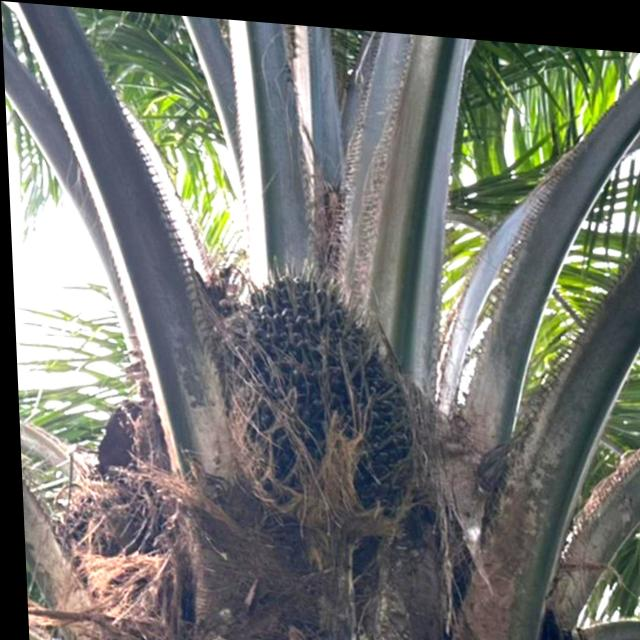almost: (214, 243, 424, 532)
